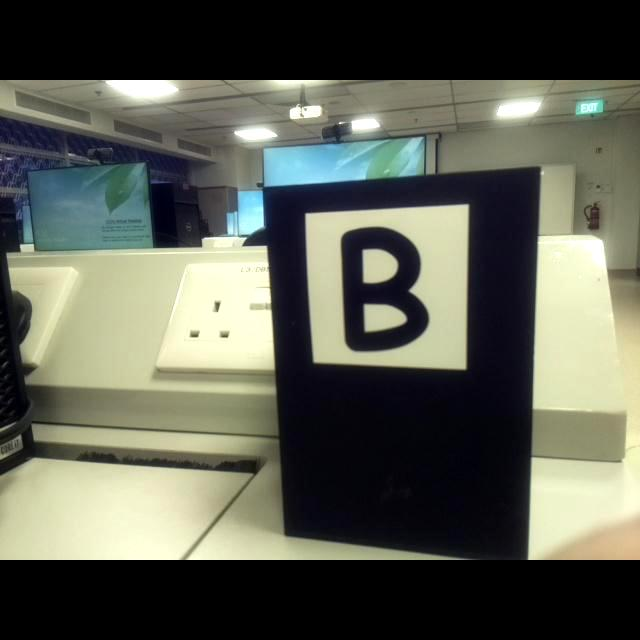B: (340, 226, 429, 352)
